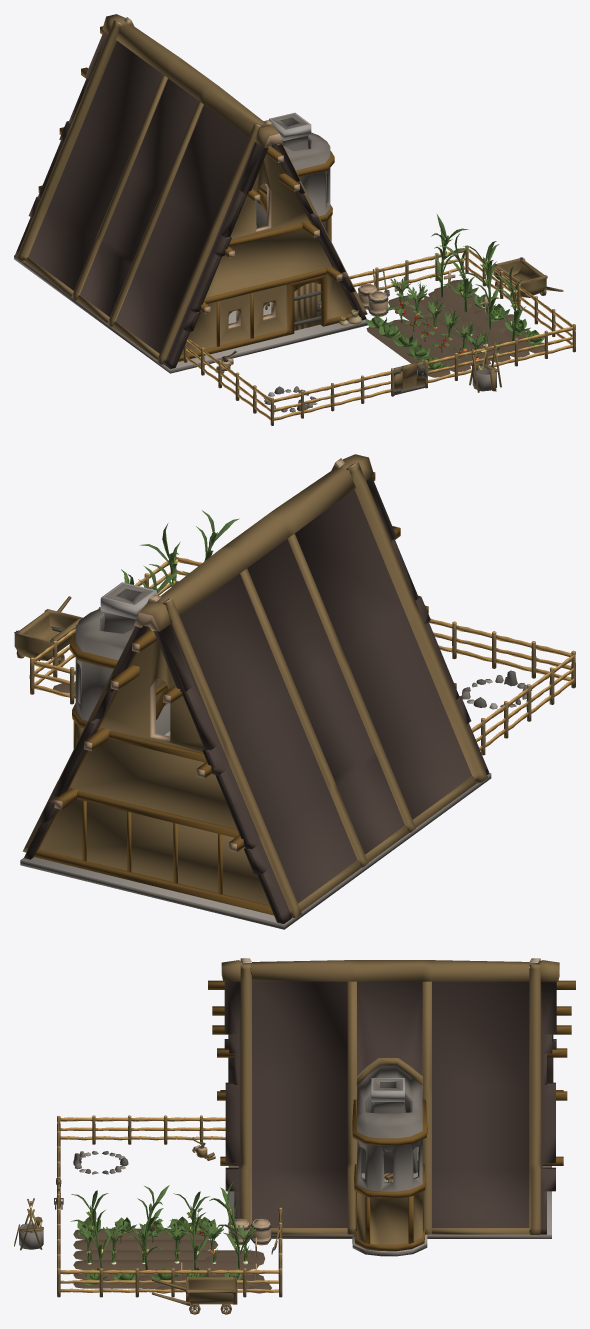
Rendered from QUESTLOCALE_WitchHut1_01export.fbx.
The picture shows the model from 3 angles, top to bottom: view 1: azimuth 30°, elevation 25°; view 2: azimuth 150°, elevation 25°; view 3: azimuth 270°, elevation 25°; orthographic projection. The views are drawn at different scales.
Visible parts, largest first — view 1: Empty_Mesh_2, Empty_Mesh_5, Empty_Mesh_1, Empty_Mesh_6, Empty_Mesh_3, Empty_Mesh_4; view 2: Empty_Mesh_2, Empty_Mesh_1, Empty_Mesh_5; view 3: Empty_Mesh_2, Empty_Mesh_5, Empty_Mesh_1, Empty_Mesh_6.
Boxes of the visible parts, left/top/right/bottom form: Empty_Mesh_2: left=15, top=14, right=575, bottom=425; Empty_Mesh_5: left=365, top=214, right=544, bottom=377; Empty_Mesh_1: left=14, top=255, right=367, bottom=373; Empty_Mesh_6: left=388, top=271, right=513, bottom=332; Empty_Mesh_3: left=294, top=282, right=321, bottom=330; Empty_Mesh_4: left=393, top=361, right=426, bottom=395; Empty_Mesh_2: left=14, top=454, right=575, bottom=923; Empty_Mesh_1: left=20, top=773, right=491, bottom=929; Empty_Mesh_5: left=121, top=510, right=239, bottom=593; Empty_Mesh_2: left=14, top=958, right=575, bottom=1314; Empty_Mesh_5: left=70, top=1180, right=258, bottom=1288; Empty_Mesh_1: left=228, top=1166, right=551, bottom=1256; Empty_Mesh_6: left=135, top=1237, right=271, bottom=1293.
Size of the model in its own units: 98.44 by 60.64 by 129.
